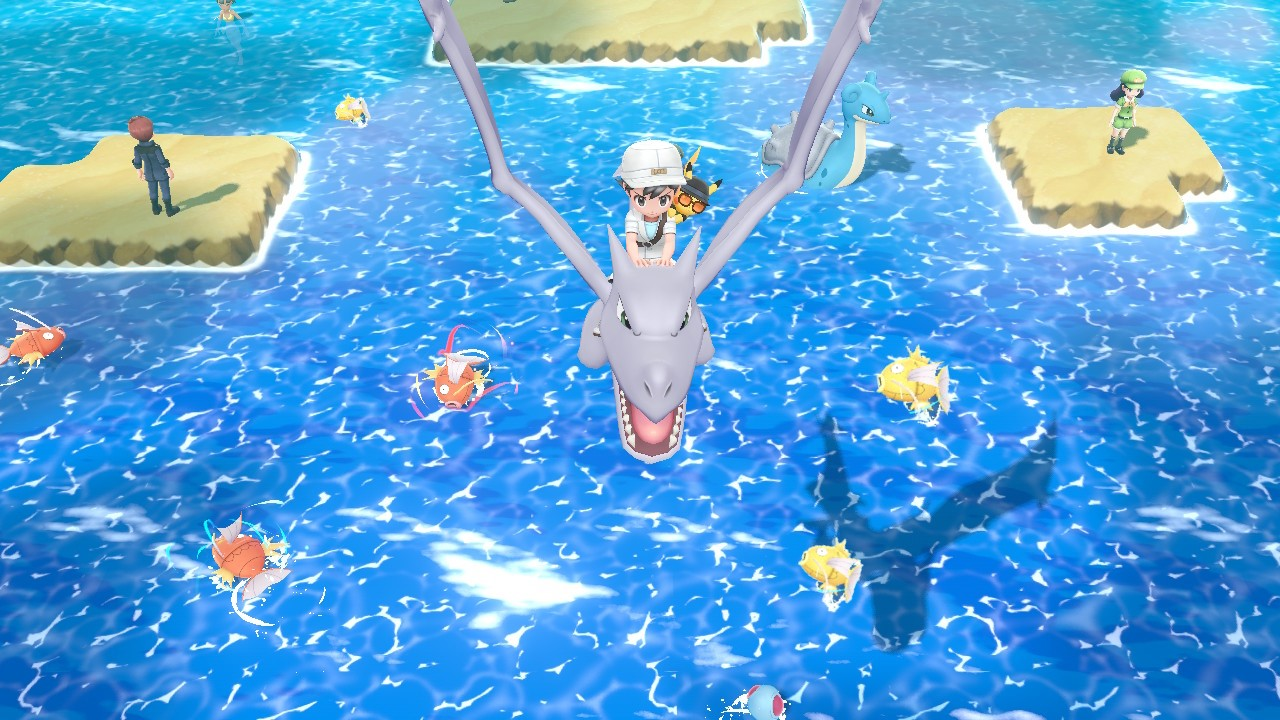Golden: (877, 344, 952, 424), (798, 542, 863, 604), (333, 91, 371, 129)
